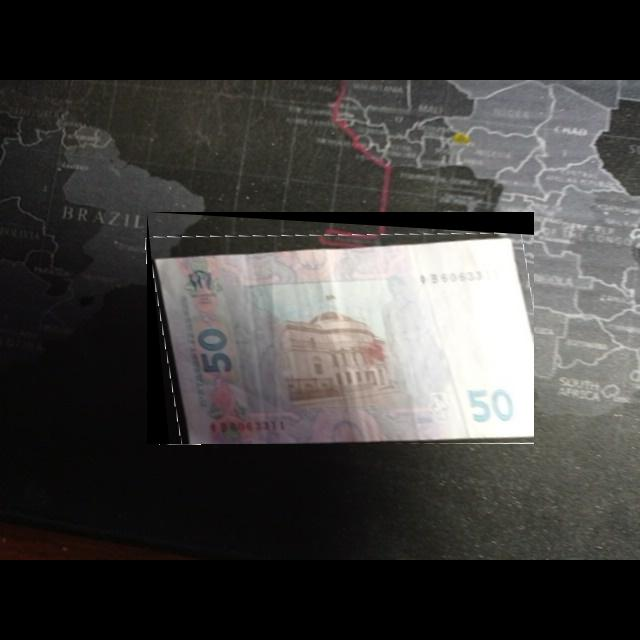50uah: (151, 229, 535, 445)
